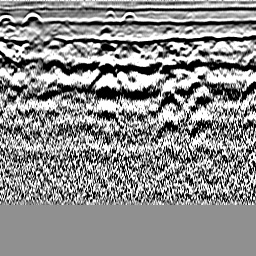cavity: (120, 9, 138, 25)
